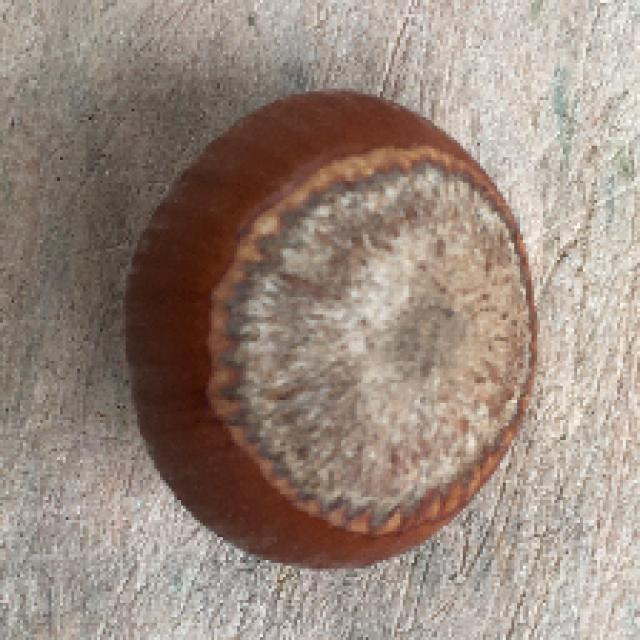qualityHazelnut: (128, 88, 543, 571)
